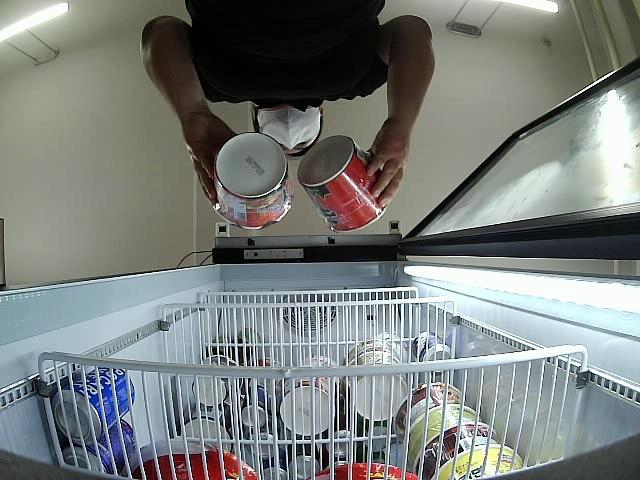00_hand: (184, 111, 237, 205), (365, 126, 408, 209)
01_shinRamen_L: (298, 135, 390, 231), (207, 133, 293, 230)
